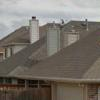Chimney: (24, 12, 62, 56)
